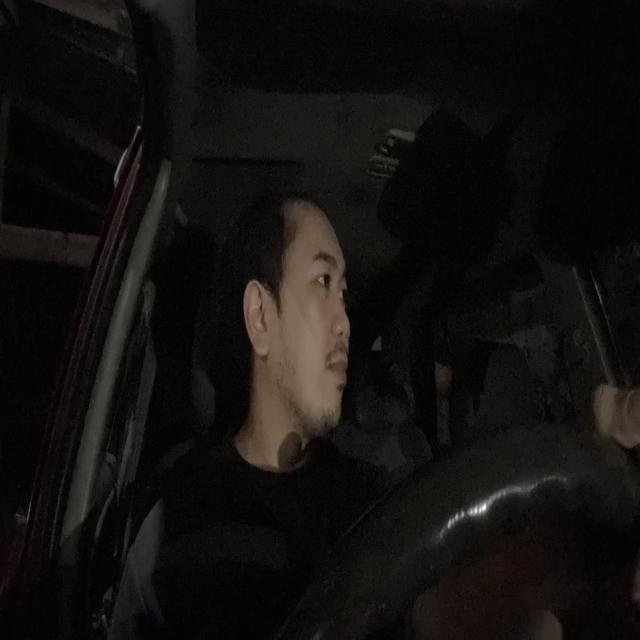open: (307, 246, 337, 299)
